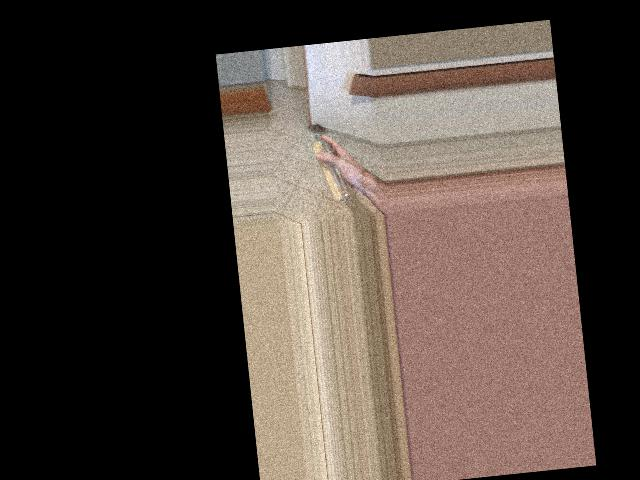cheese: (303, 127, 365, 197)
